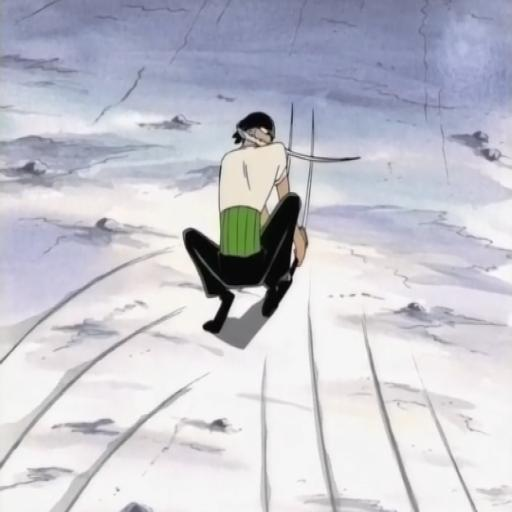Zoro: (180, 80, 337, 346)
